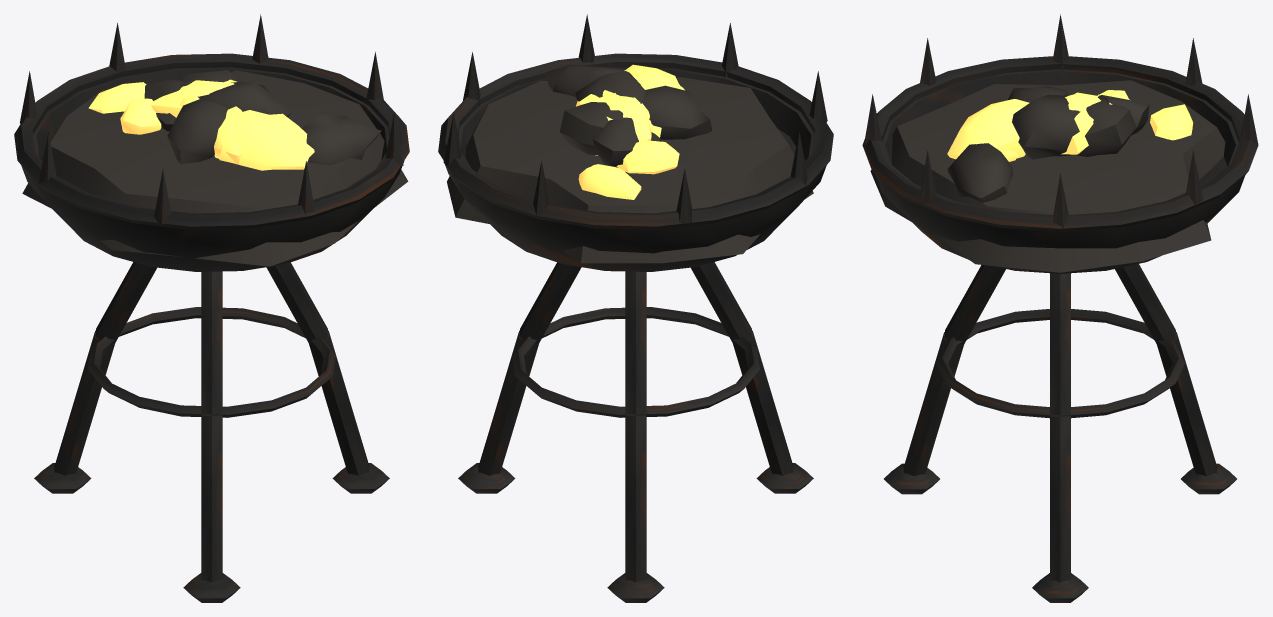
Rendered from brazier.glb.
3 views of the same model, side by side, from view 1: azimuth 30°, elevation 25°; view 2: azimuth 150°, elevation 25°; view 3: azimuth 270°, elevation 25° (orthographic).
Parts seen in each view (by area): view 1: brazier; view 2: brazier; view 3: brazier.
Boxes of the visible parts, left/top/right/bottom form: brazier: left=14, top=14, right=409, bottom=602; brazier: left=438, top=14, right=833, bottom=602; brazier: left=862, top=14, right=1258, bottom=602.
Bounding box in the file's own units: 0.97 × 1.18 × 0.97.
Materials: 3 (1 with a texture image).
